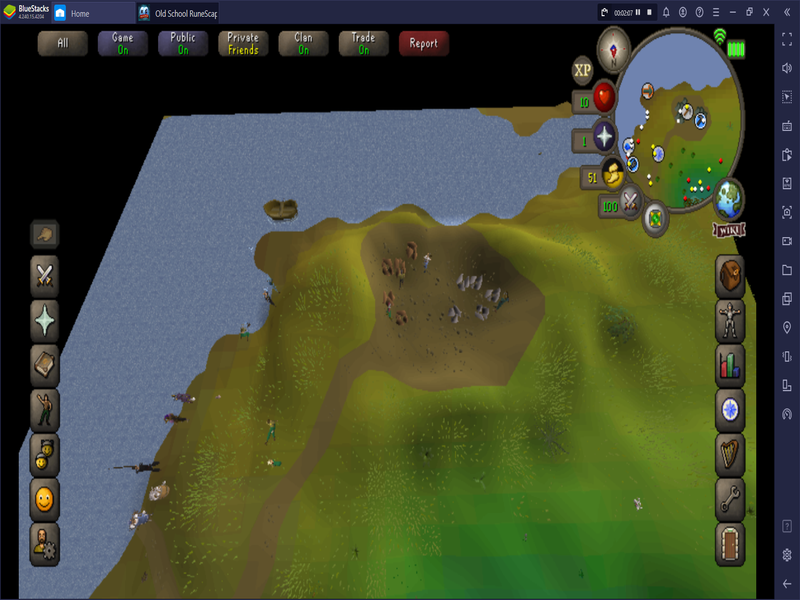copper_rock_1: (394, 308, 410, 327)
copper_rock_2: (381, 290, 396, 307)
